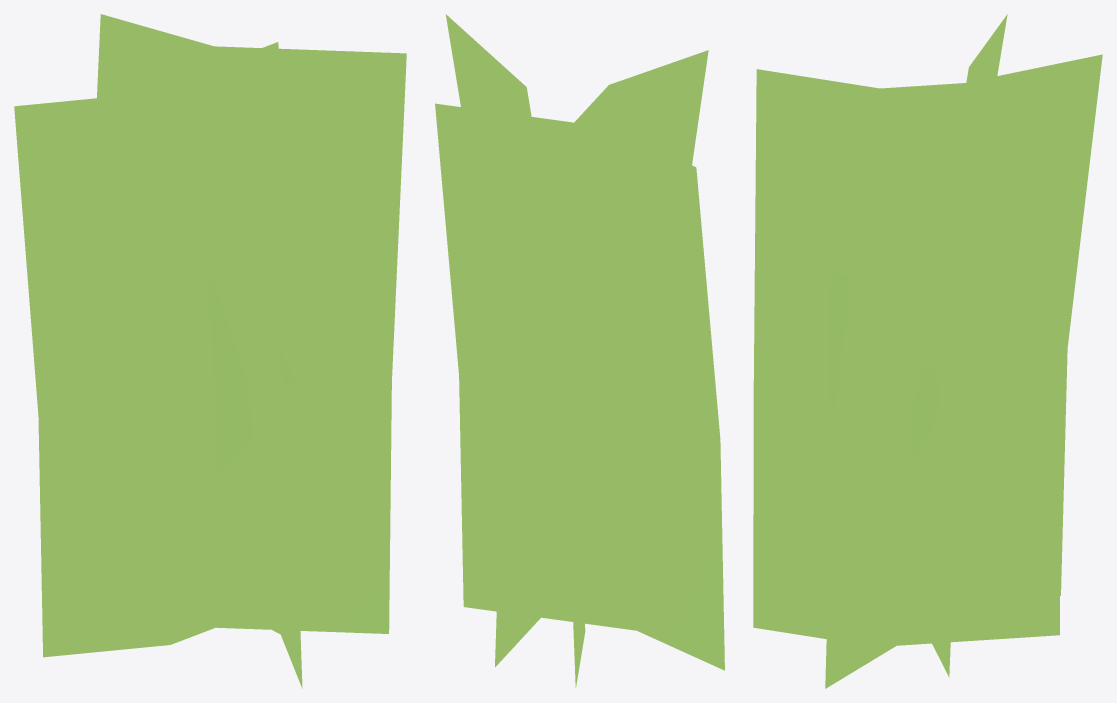
The model's file is GrassPlanes_a_TwoS_06.fbx.
3 renders of one model, left to right at view 1: azimuth 30°, elevation 25°; view 2: azimuth 150°, elevation 25°; view 3: azimuth 270°, elevation 25°, orthographic.
Parts seen in each view (by area): view 1: GrassPlanes_a_TwoS_06; view 2: GrassPlanes_a_TwoS_06; view 3: GrassPlanes_a_TwoS_06.
Boxes of the visible parts, <box> form: GrassPlanes_a_TwoS_06: <box>14,14,406,688</box>; GrassPlanes_a_TwoS_06: <box>435,14,724,687</box>; GrassPlanes_a_TwoS_06: <box>753,14,1102,688</box>.
Size of the model in its own units: 0.4235 by 0.6969 by 0.3939.
